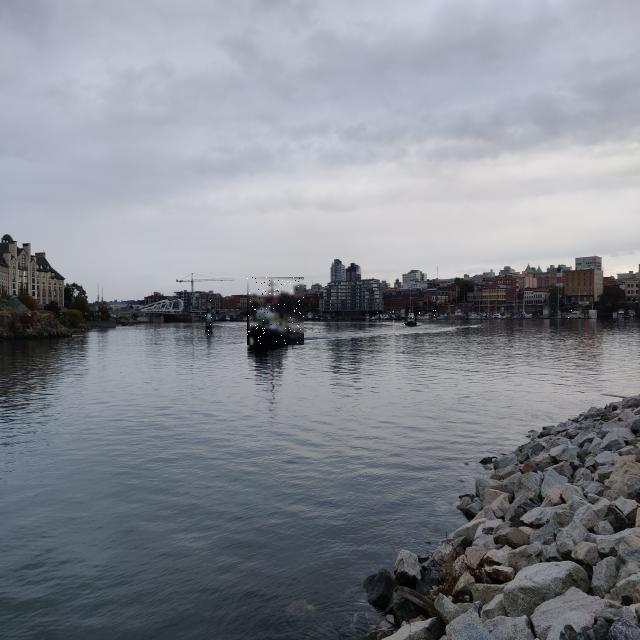boat: (247, 277, 304, 345), (416, 310, 436, 320), (561, 310, 584, 318), (404, 312, 416, 326), (543, 303, 551, 318), (589, 310, 597, 318)
mark: (205, 300, 213, 335)
skiff: (443, 316, 465, 320)
